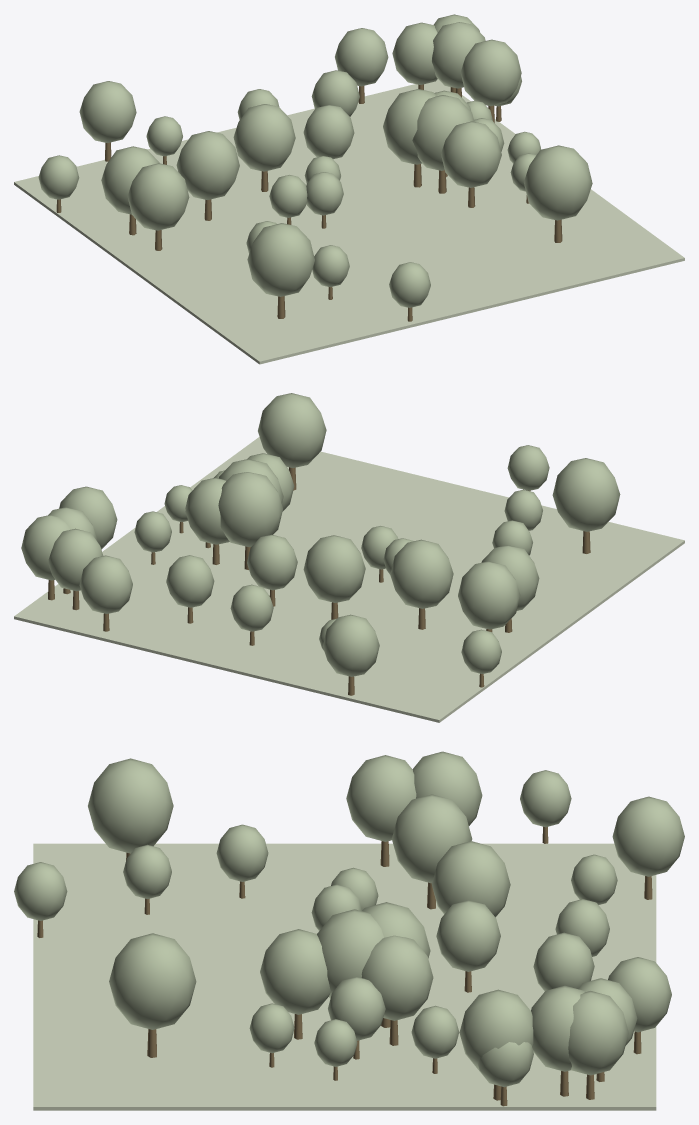
The picture shows the model from 3 angles, top to bottom: view 1: azimuth 30°, elevation 25°; view 2: azimuth 150°, elevation 25°; view 3: azimuth 270°, elevation 25°; orthographic projection. The views are drawn at different scales.
Parts seen in each view (by area): view 1: terrain, lod-near-15, lod-near-17, lod-near-24, lod-near-2, lod-near-7, lod-near-5, lod-near-11, lod-near-3, lod-near-25, lod-near-23, lod-near-27 (+15 smaller); view 2: terrain, lod-near-15, lod-near-17, lod-near-27, lod-near-24, lod-near-10, lod-near-2, lod-near-3, lod-near-23, lod-near-14, lod-near-30, lod-near-19 (+15 smaller); view 3: terrain, lod-near-15, lod-near-17, lod-near-24, lod-near-5, lod-near-3, lod-near-7, lod-near-2, lod-near-19, lod-near-0, lod-near-11, lod-near-30 (+20 smaller).
Boxes of the visible parts, x1,y1,x2,y2 form: terrain: (14, 79, 684, 364); lod-near-15: (524, 145, 592, 220); lod-near-17: (247, 223, 314, 296); lod-near-24: (176, 131, 239, 199); lod-near-2: (233, 104, 295, 171); lod-near-7: (127, 163, 189, 230); lod-near-5: (441, 121, 501, 187); lod-near-11: (460, 39, 521, 106); lod-near-3: (79, 81, 136, 142); lod-near-25: (412, 95, 474, 170); lod-near-23: (335, 28, 388, 86); lod-near-27: (383, 89, 436, 164); terrain: (14, 437, 684, 722); lod-near-15: (258, 393, 326, 467); lod-near-17: (552, 458, 620, 531); lod-near-27: (218, 472, 282, 547); lod-near-24: (390, 539, 453, 608); lod-near-10: (458, 561, 520, 629); lod-near-2: (303, 535, 365, 602); lod-near-3: (323, 614, 379, 676); lod-near-23: (79, 555, 132, 613); lod-near-14: (48, 528, 103, 591); lod-near-30: (247, 534, 297, 590); lod-near-19: (185, 477, 229, 544); terrain: (33, 843, 656, 1110); lod-near-15: (109, 933, 196, 1029); lod-near-17: (88, 758, 173, 853); lod-near-24: (392, 794, 472, 883); lod-near-5: (260, 929, 330, 1014); lod-near-3: (612, 796, 684, 876); lod-near-7: (346, 755, 416, 841); lod-near-2: (431, 841, 510, 917); lod-near-19: (361, 935, 433, 1020); lod-near-0: (568, 991, 628, 1075); lod-near-11: (459, 989, 533, 1069); lod-near-30: (436, 900, 500, 971).
Size of the model in its own units: 34.72 by 7.17 by 34.46.
